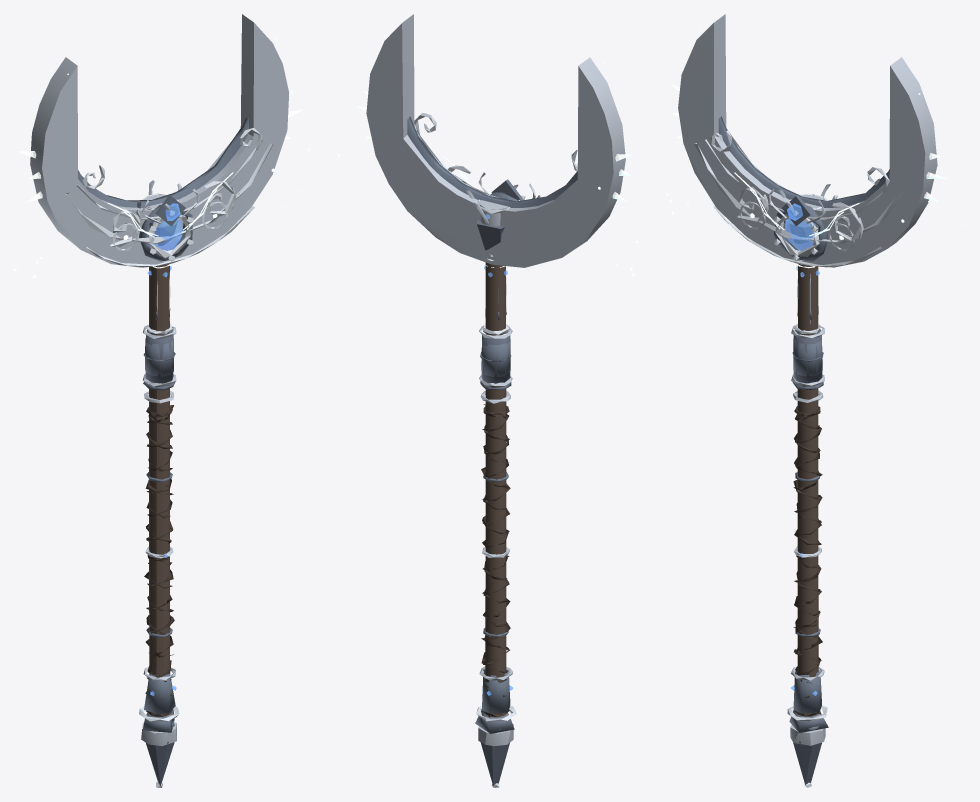
File: Baston_Lunar.glb
3 views of the same model, side by side, from view 1: azimuth 30°, elevation 25°; view 2: azimuth 150°, elevation 25°; view 3: azimuth 330°, elevation 25° (orthographic).
Visible parts, largest first — view 1: ZM_Staff_Lunar_Silver, ZM_Staff_Lunar_Leather, ZM_Staff_Lunar_SteelEdge, ZM_Staff_Lunar_SilverLit, ZM_Staff_Lunar_Cord, ZM_Staff_Lunar_DarkSteel, ZM_Staff_Lunar_Sapphire; view 2: ZM_Staff_Lunar_Silver, ZM_Staff_Lunar_Leather, ZM_Staff_Lunar_SteelEdge, ZM_Staff_Lunar_Cord, ZM_Staff_Lunar_DarkSteel, ZM_Staff_Lunar_SilverLit; view 3: ZM_Staff_Lunar_Silver, ZM_Staff_Lunar_Leather, ZM_Staff_Lunar_SteelEdge, ZM_Staff_Lunar_SilverLit, ZM_Staff_Lunar_Cord, ZM_Staff_Lunar_DarkSteel, ZM_Staff_Lunar_Sapphire.
Boxes of the visible parts, box(x1,y1,x2,y2) form: ZM_Staff_Lunar_Silver: box(30, 14, 289, 745); ZM_Staff_Lunar_Leather: box(149, 264, 169, 716); ZM_Staff_Lunar_SteelEdge: box(78, 117, 248, 732); ZM_Staff_Lunar_SilverLit: box(65, 128, 273, 787); ZM_Staff_Lunar_Cord: box(144, 405, 174, 716); ZM_Staff_Lunar_DarkSteel: box(143, 308, 175, 785); ZM_Staff_Lunar_Sapphire: box(147, 203, 182, 695); ZM_Staff_Lunar_Silver: box(366, 14, 625, 746); ZM_Staff_Lunar_Leather: box(485, 262, 506, 717); ZM_Staff_Lunar_SteelEdge: box(407, 116, 577, 733); ZM_Staff_Lunar_Cord: box(481, 404, 510, 717); ZM_Staff_Lunar_DarkSteel: box(480, 306, 511, 785); ZM_Staff_Lunar_SilverLit: box(414, 113, 577, 787); ZM_Staff_Lunar_Silver: box(678, 14, 937, 745); ZM_Staff_Lunar_Leather: box(797, 264, 818, 716); ZM_Staff_Lunar_SteelEdge: box(718, 116, 889, 732); ZM_Staff_Lunar_SilverLit: box(694, 130, 901, 787); ZM_Staff_Lunar_Cord: box(793, 406, 822, 716); ZM_Staff_Lunar_DarkSteel: box(792, 306, 823, 784); ZM_Staff_Lunar_Sapphire: box(785, 203, 819, 695).
Size of the model in its own units: 0.7183 by 1.73 by 0.1264.
